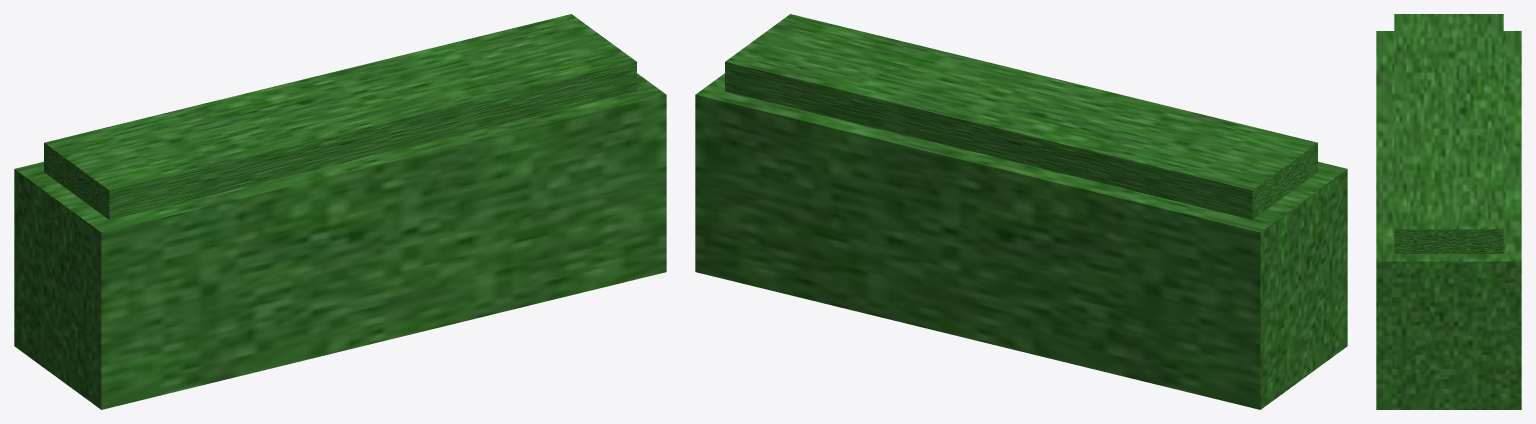
File: hedge-cream-far.glb
3 views of the same model, side by side, from view 1: azimuth 30°, elevation 25°; view 2: azimuth 150°, elevation 25°; view 3: azimuth 270°, elevation 25° (orthographic). The views are drawn at different scales.
Visible parts, largest first — view 1: hedge-cream-far; view 2: hedge-cream-far; view 3: hedge-cream-far.
Part boxes in pixels (bbox=[...]): hedge-cream-far: bbox=[14, 14, 666, 409]; hedge-cream-far: bbox=[695, 14, 1347, 409]; hedge-cream-far: bbox=[1376, 14, 1521, 409].
Size of the model in its own units: 3 by 1.05 by 0.8.
Materials: 1 (1 with a texture image).
